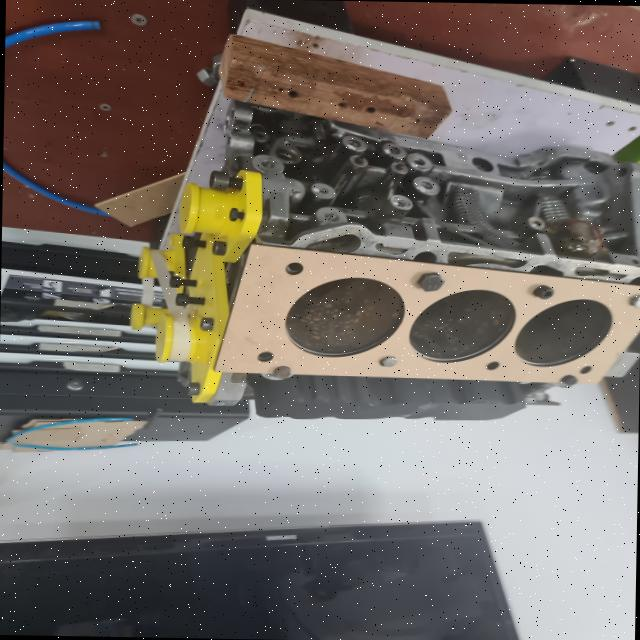tor_v1: (214, 243, 640, 384)
